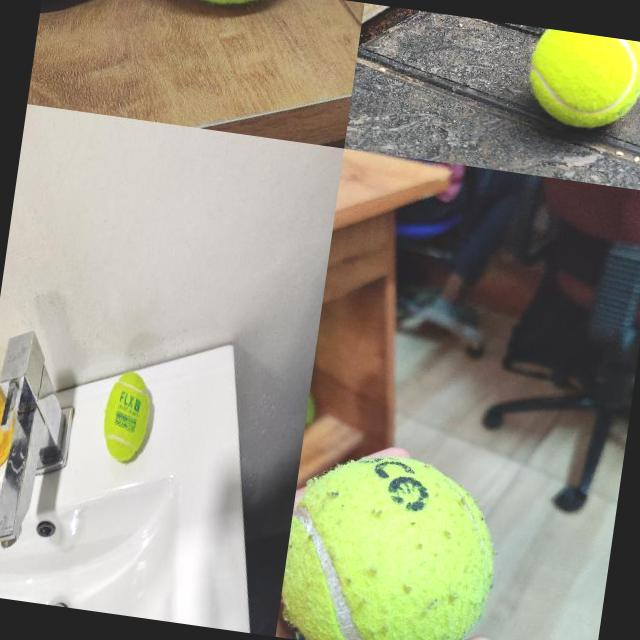tennis-ball: (275, 441, 506, 640), (519, 27, 640, 137), (99, 368, 154, 466)
